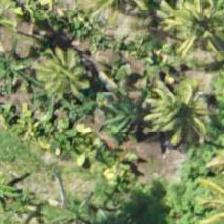coconut_tree: (19, 26, 109, 116), (137, 65, 223, 155), (160, 0, 223, 72)
